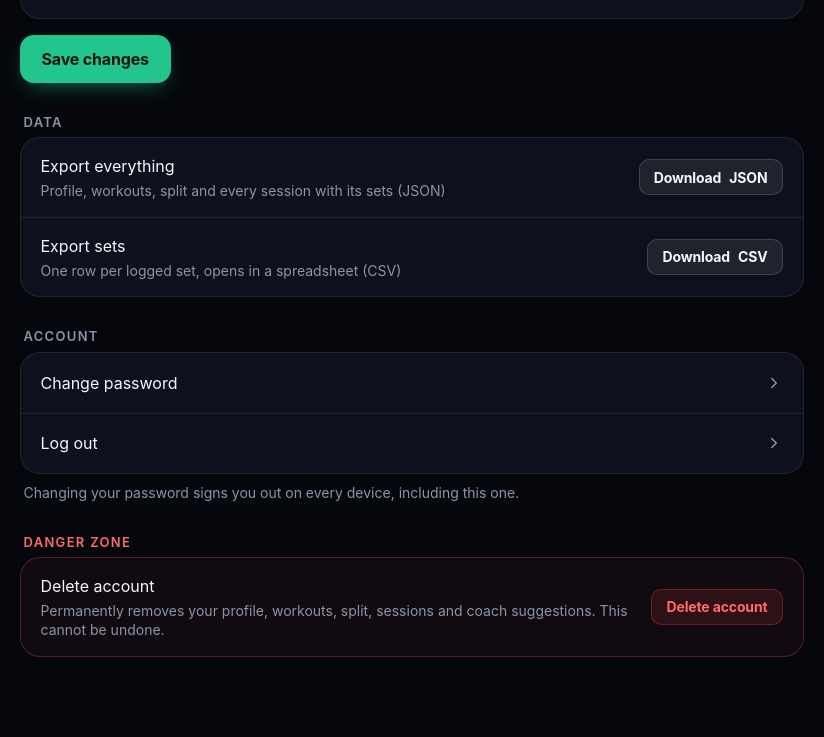
it: SettingsPage › change password › keeps the form hidden until it is opened and can be cancelled
This screenshot has width=824, height=737.
(page scrolled)
expect the field labelled "Current password" is not shown: met
Click the button "Change password": coordinates (109, 383) [20,352,802,412]
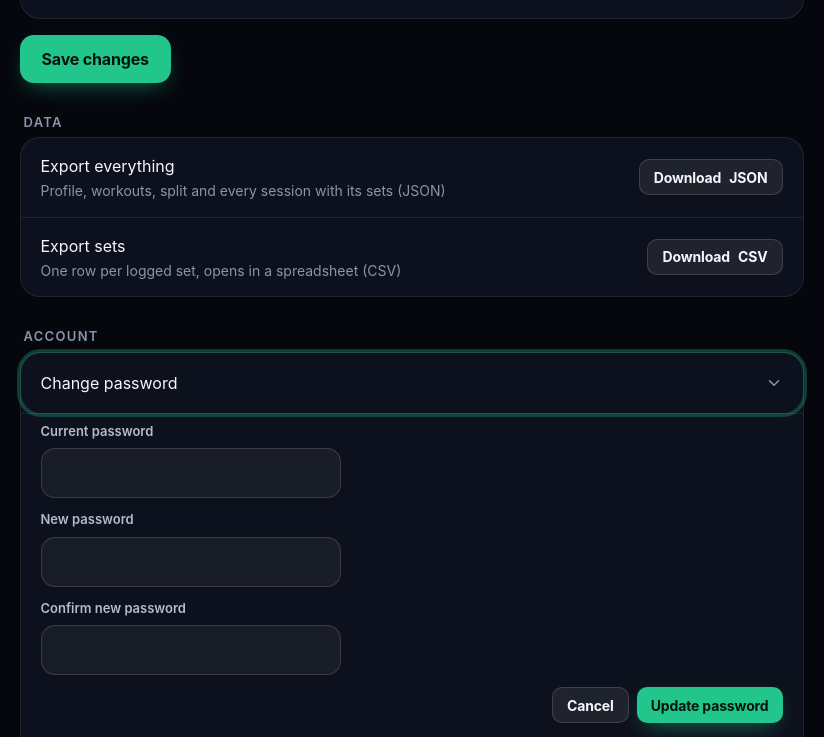
expect the password field labelled "Current password" is shown: met, box [56,449,326,497]
Click the button "Cancel": coordinates (590, 705) [552,687,629,723]
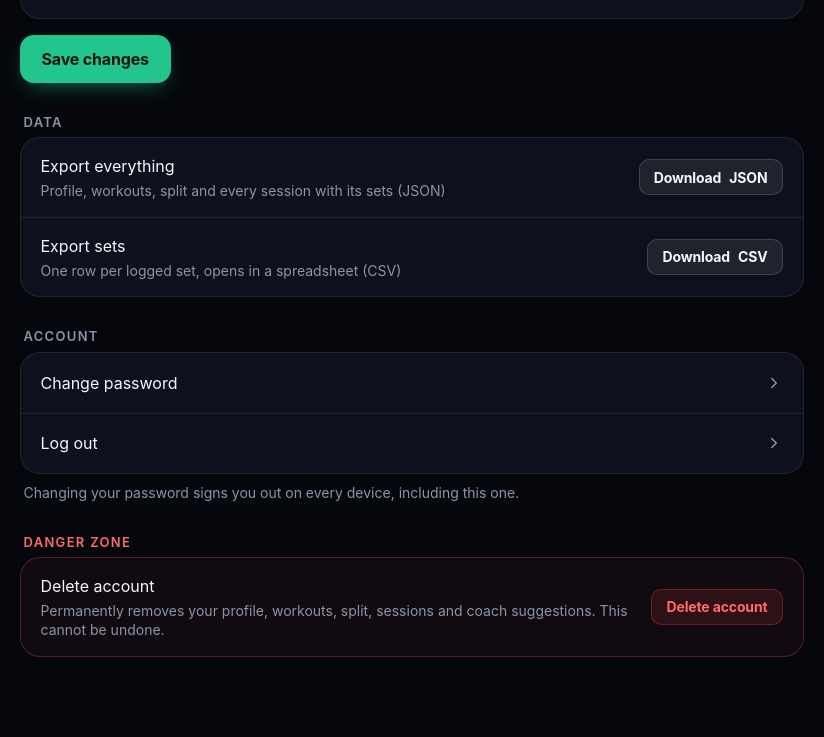
expect the label labelled "Current password" is gone: met
